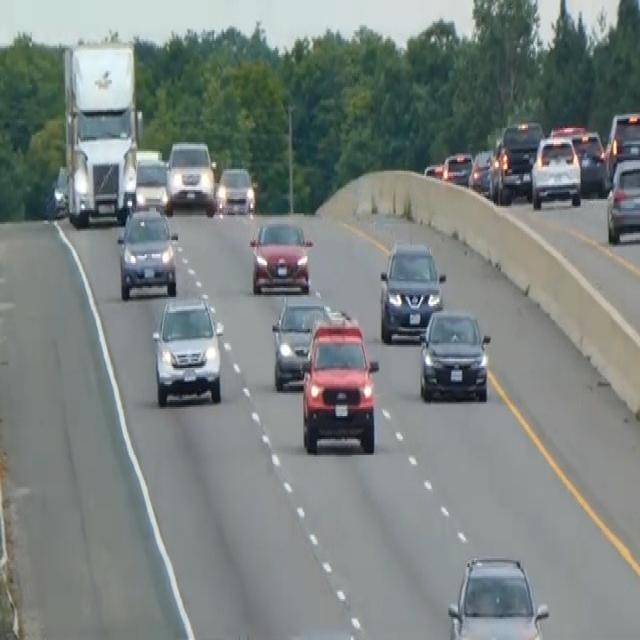car: (446, 551, 549, 638), (151, 293, 224, 407), (418, 306, 491, 404), (378, 238, 445, 343), (116, 202, 178, 300), (270, 292, 332, 389), (248, 215, 313, 293), (488, 117, 544, 203), (551, 122, 607, 194), (530, 133, 582, 210), (165, 137, 216, 215), (605, 154, 639, 243), (604, 109, 639, 180), (132, 153, 172, 215), (216, 164, 254, 215), (441, 149, 472, 187), (468, 148, 493, 194), (51, 162, 69, 217), (423, 156, 443, 180)
jeep: (299, 317, 380, 455)
lorry: (61, 37, 141, 226)
